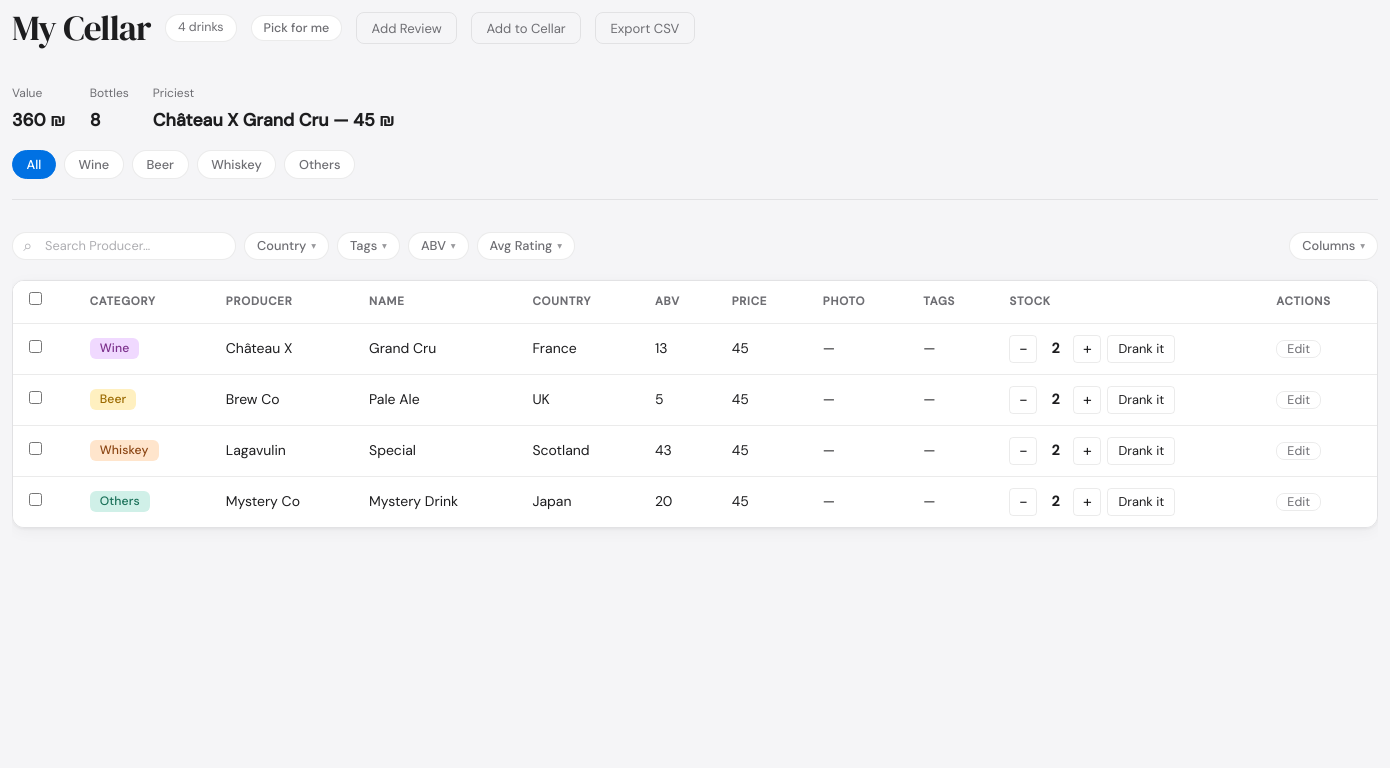
Test: clicking Beer tab shows only beer entries
Expected: the text "Grand Cru" is shown, [353,323,516,374]
What coordinates should you click on to do the following:
click the button "Beer"
I would click on:
 (160, 164)
Its box is [132,150,189,179].
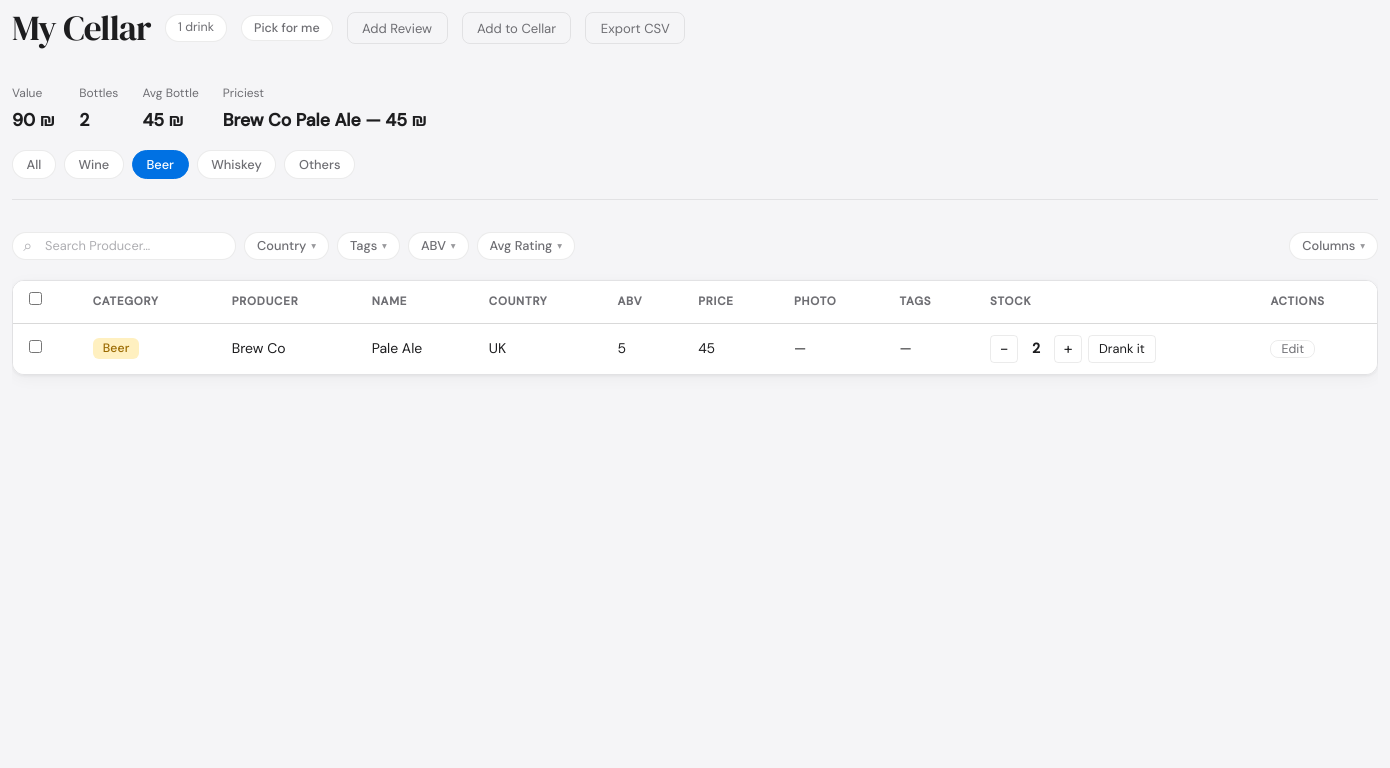
Expected: the text "Pale Ale" is shown, [356,323,473,374]
Expected: the text "Grand Cru" is gone
